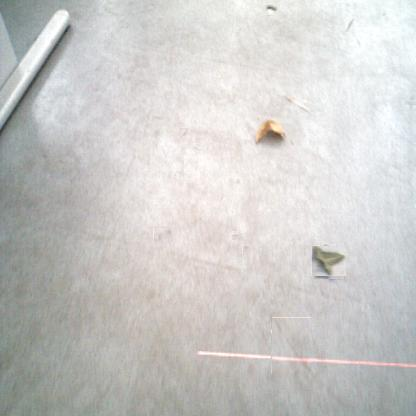dirty: (313, 245, 345, 278), (254, 118, 286, 144), (284, 94, 308, 112), (264, 5, 278, 15)
mark: (271, 317, 311, 374), (153, 227, 172, 243), (344, 17, 354, 32), (407, 96, 416, 108), (154, 128, 162, 140), (242, 245, 251, 254), (180, 127, 189, 136), (193, 144, 202, 152), (231, 232, 238, 239), (382, 10, 388, 16)
